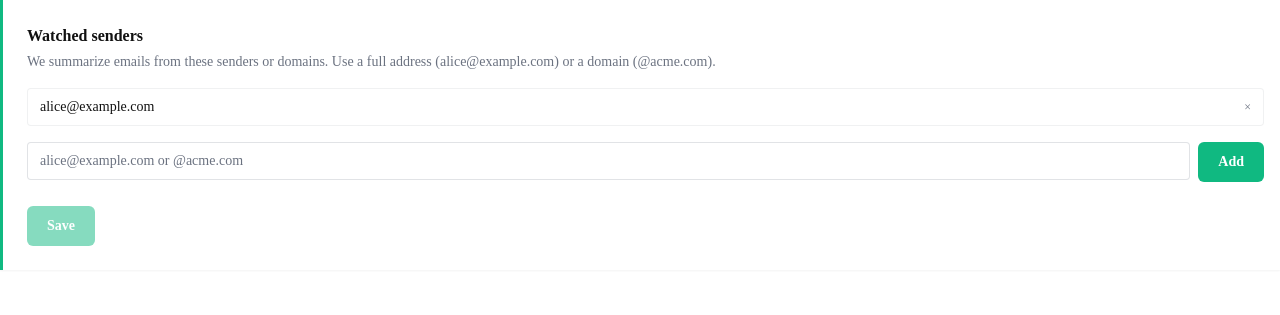
Test: WatchedSendersEditor › rejects a duplicate entry case-insensitively
Type "ALICE@example.com" into the field with placeholder "alice@example.com or @acme.com".
click(609, 161); type("ALICE@example.com")  # box [27,142,1190,180]
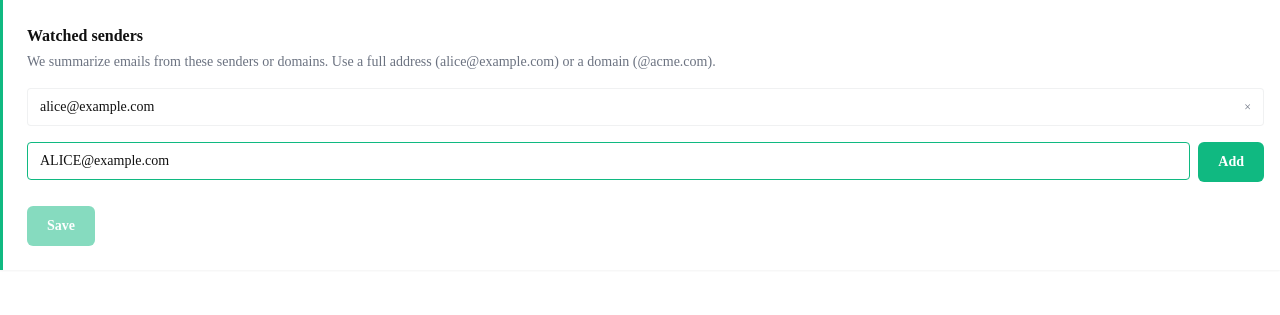
Click the button "Add".
click(1231, 162)  # box [1198,142,1264,182]
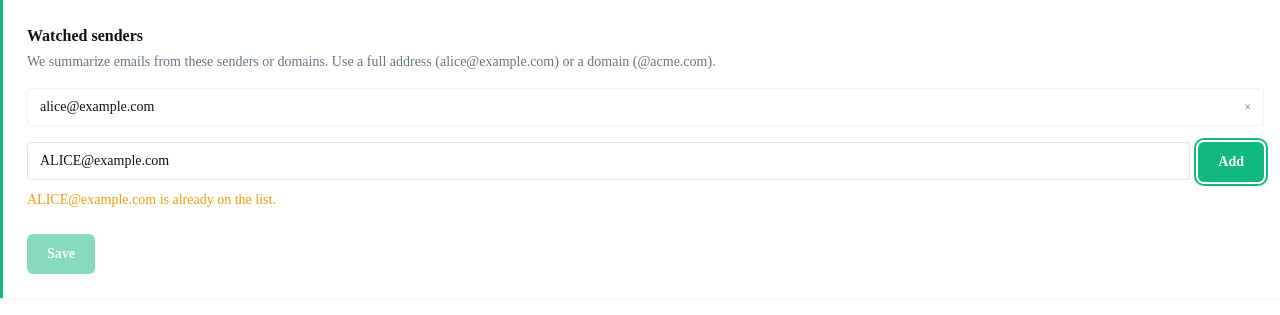
Expected: the message reads "ALICE@example.com is already on the list.", [27,192,276,207]
